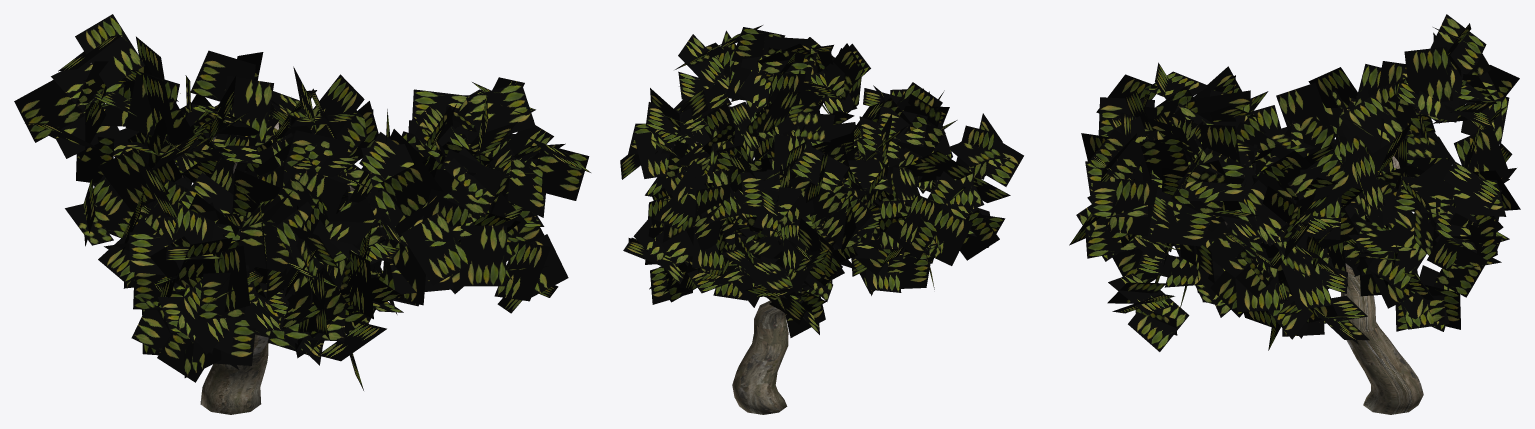
File: tree-broad-04-lod0.glb
3 renders of one model, left to right at view 1: azimuth 30°, elevation 25°; view 2: azimuth 150°, elevation 25°; view 3: azimuth 270°, elevation 25°, orthographic. The views are drawn at different scales.
Parts seen in each view (by area): view 1: tree-broad-04_MATERIAL_BATCH; view 2: tree-broad-04_MATERIAL_BATCH; view 3: tree-broad-04_MATERIAL_BATCH.
Part boxes in pixels (x1,y1,x2,y2): tree-broad-04_MATERIAL_BATCH: [14, 14, 590, 414]; tree-broad-04_MATERIAL_BATCH: [620, 25, 1023, 414]; tree-broad-04_MATERIAL_BATCH: [1069, 14, 1520, 414].
Size of the model in its own units: 13.28 by 11 by 13.38.
Materials: 3 (3 with a texture image).
